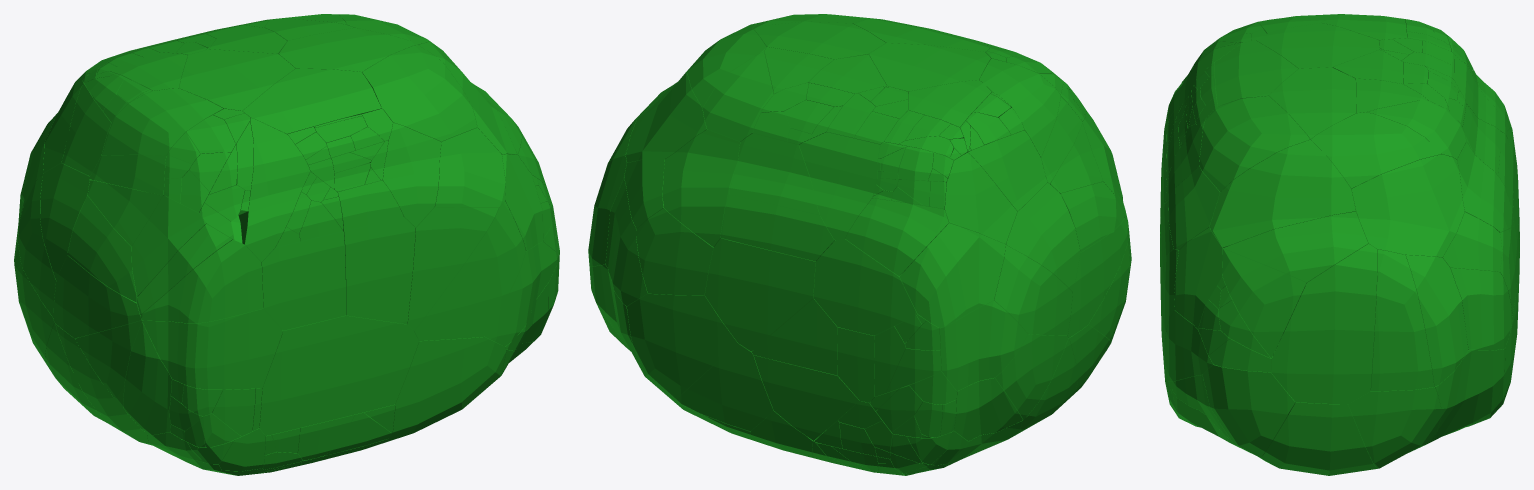
The model's file is boulderBroken.fbx.
The picture shows the model from 3 angles, left to right: view 1: azimuth 30°, elevation 25°; view 2: azimuth 150°, elevation 25°; view 3: azimuth 270°, elevation 25°; orthographic projection. The views are drawn at different scales.
Parts seen in each view (by area): view 1: Cube_cell.059, Cube_cell.042, Cube_cell.074, Cube_cell, Cube_cell.069, Cube_cell.071, Cube_cell.016, Cube_cell.002, Cube_cell.029, Cube_cell.068, Cube_cell.024, Cube_cell.009 (+52 smaller); view 2: Cube_cell.021, Cube_cell.111, Cube_cell.041, Cube_cell.112, Cube_cell.050, Cube_cell.072, Cube_cell.079, Cube_cell.006, Cube_cell.005, Cube_cell.063, Cube_cell.051, Cube_cell.101 (+56 smaller); view 3: Cube_cell.037, Cube_cell.066, Cube_cell.015, Cube_cell.031, Cube_cell.069, Cube_cell.084, Cube_cell.062, Cube_cell.097, Cube_cell.003, Cube_cell.044, Cube_cell.034, Cube_cell.035 (+38 smaller).
Boxes of the visible parts, x1,y1,x2,y2 form: Cube_cell.059: (259,315,419,435); Cube_cell.042: (142,308,282,389); Cube_cell.074: (388,336,506,441); Cube_cell: (413,201,525,340); Cube_cell.069: (362,45,477,141); Cube_cell.071: (261,231,345,330); Cube_cell.016: (343,217,415,324); Cube_cell.002: (140,240,263,323); Cube_cell.029: (242,68,381,134); Cube_cell.068: (238,117,310,262); Cube_cell.024: (407,207,498,330); Cube_cell.009: (102,88,223,155); Cube_cell.021: (704,238,815,351); Cube_cell.111: (627,293,737,400); Cube_cell.041: (899,223,1005,327); Cube_cell.112: (813,239,917,335); Cube_cell.050: (662,129,740,247); Cube_cell.072: (799,132,894,240); Cube_cell.079: (939,300,1027,391); Cube_cell.006: (636,208,713,295); Cube_cell.005: (753,355,859,440); Cube_cell.063: (729,133,819,215); Cube_cell.051: (845,198,948,276); Cube_cell.101: (720,194,835,261); Cube_cell.037: (1271,243,1377,404); Cube_cell.066: (1209,139,1355,247); Cube_cell.015: (1351,154,1464,257); Cube_cell.031: (1370,249,1434,391); Cube_cell.069: (1199,96,1309,192); Cube_cell.084: (1261,402,1377,475); Cube_cell.062: (1223,211,1368,284); Cube_cell.097: (1311,112,1440,188); Cube_cell.003: (1202,364,1295,457); Cube_cell.044: (1348,387,1441,468); Cube_cell.034: (1222,248,1306,358); Cube_cell.035: (1405,255,1468,386).
Bounding box in the file's own units: 354 × 256 × 257.
